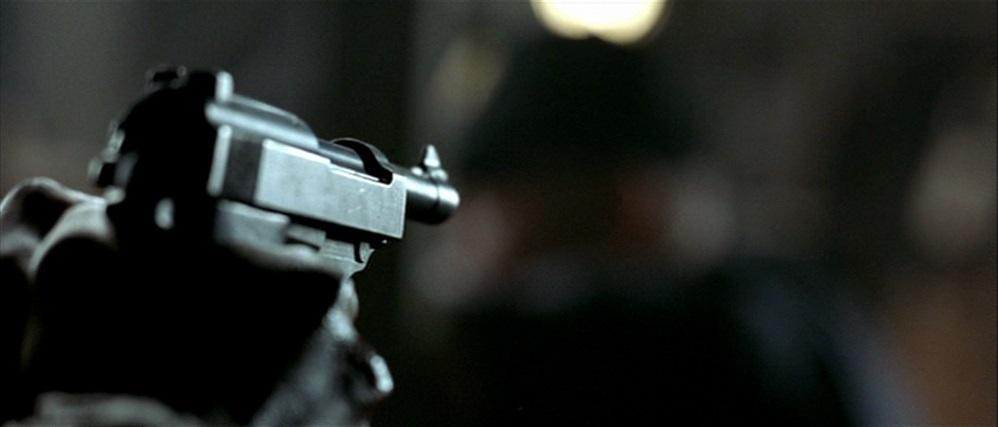gun: (0, 43, 487, 422)
